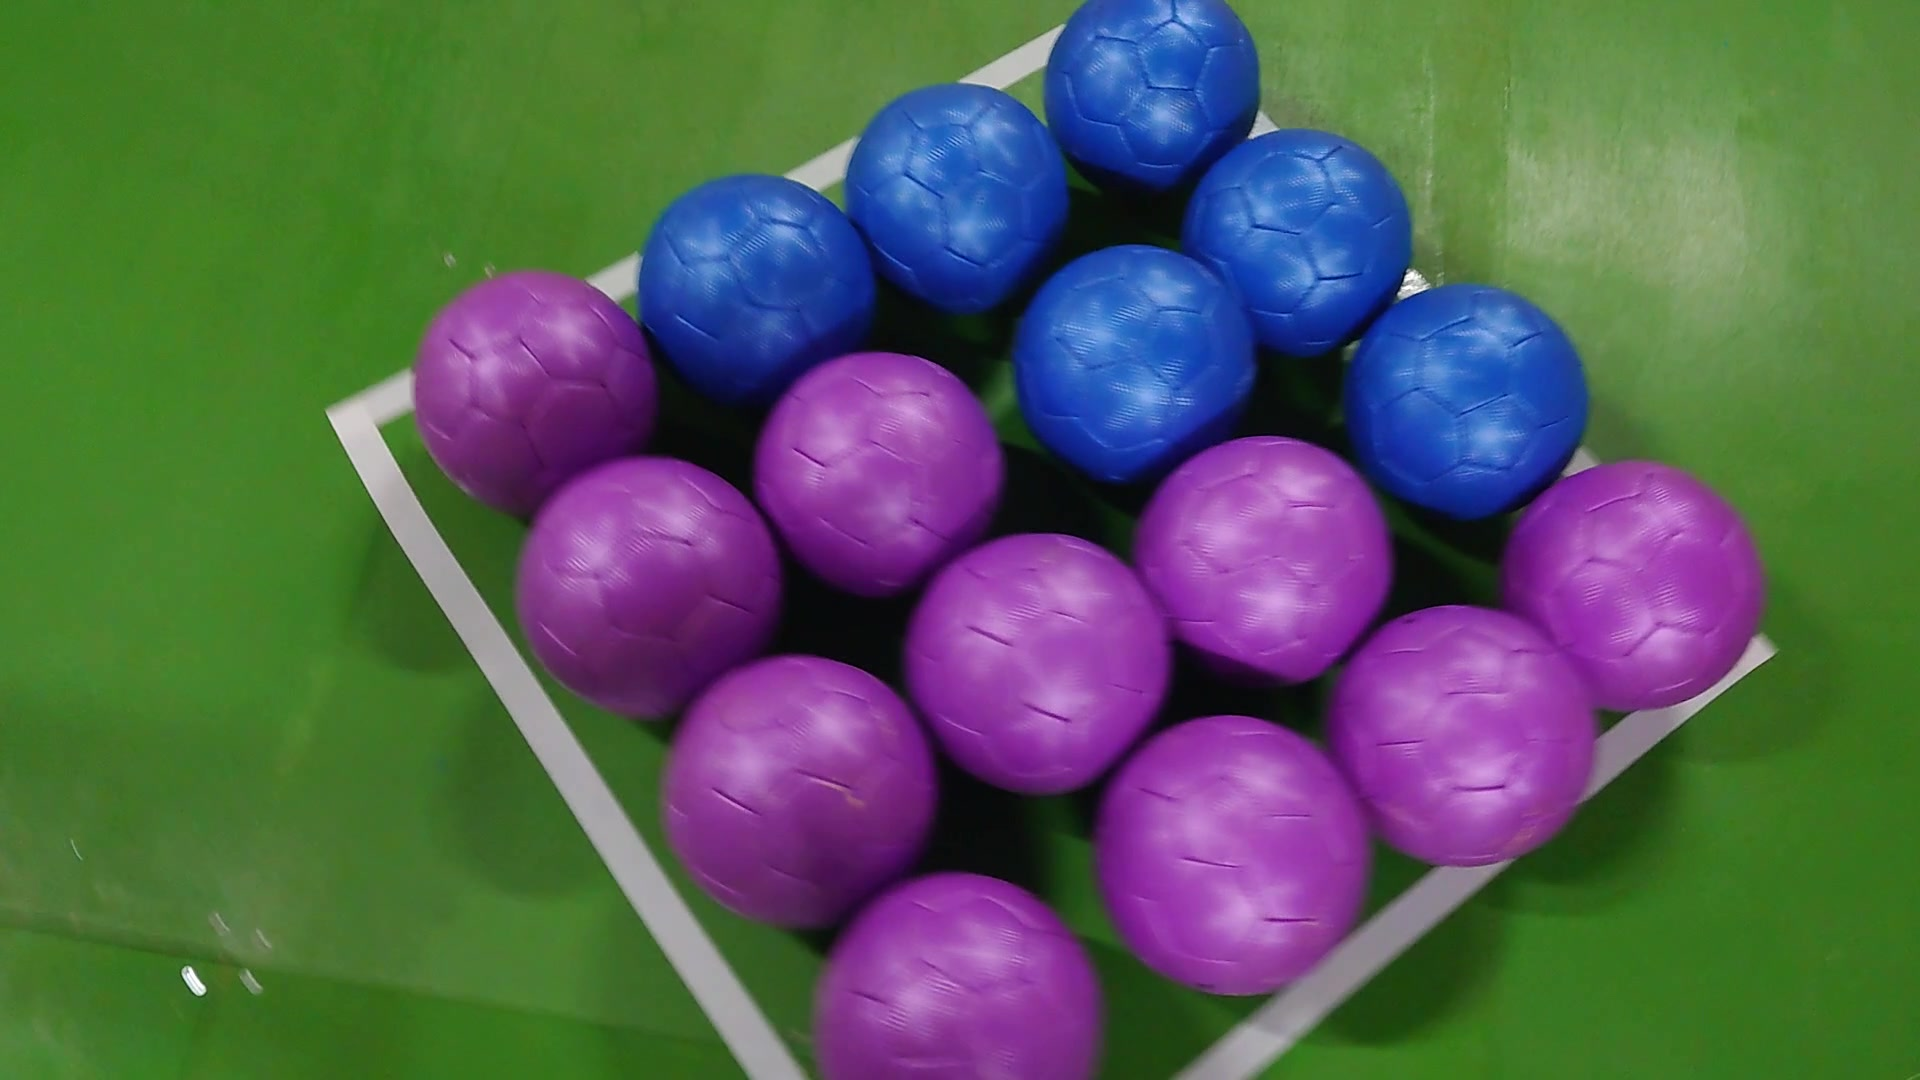blue: (1013, 239, 1263, 483), (1352, 281, 1590, 520), (637, 170, 876, 409), (836, 78, 1071, 307), (1188, 124, 1414, 359), (1048, 0, 1261, 179)
purple: (1095, 712, 1378, 996), (663, 650, 934, 924), (1329, 597, 1600, 862), (907, 533, 1168, 794), (522, 458, 781, 719), (1502, 458, 1767, 708), (1130, 431, 1391, 676), (411, 268, 666, 516), (748, 349, 1002, 588), (810, 869, 1097, 1075)
